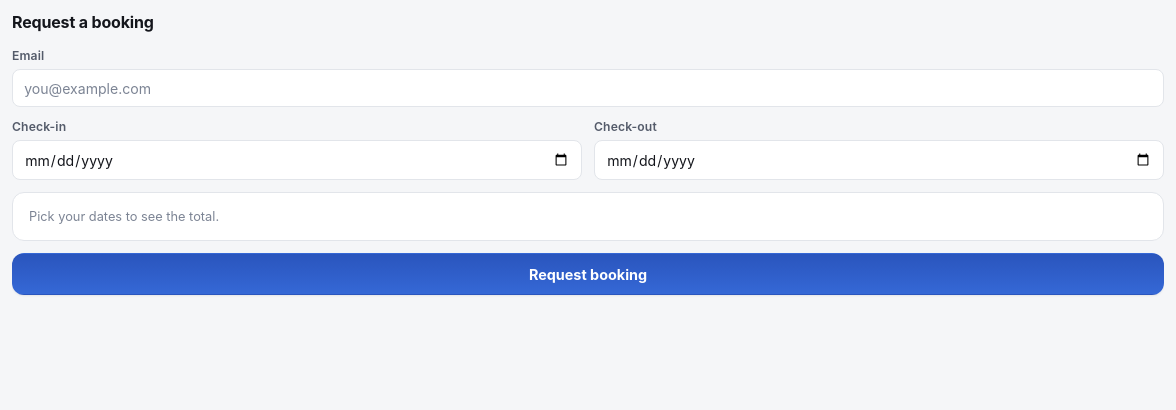
it: BookingPanel › shows an email error on submit when the email is invalid
Type "not-an-email" into the field labelled "Email" at (588, 88), box x1=12 y1=69 x2=1164 y2=107
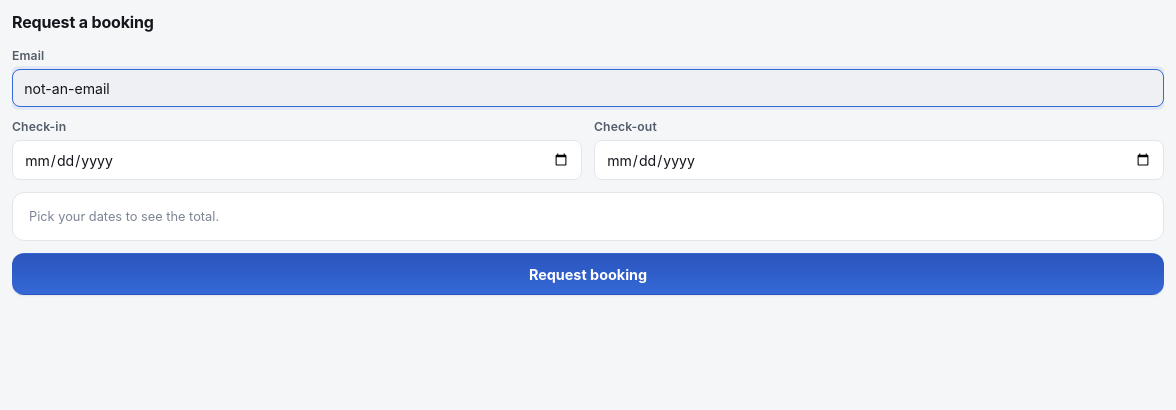
Type "2025-05-01" into the date field labelled "Check-in" at (297, 160), box x1=12 y1=140 x2=582 y2=180
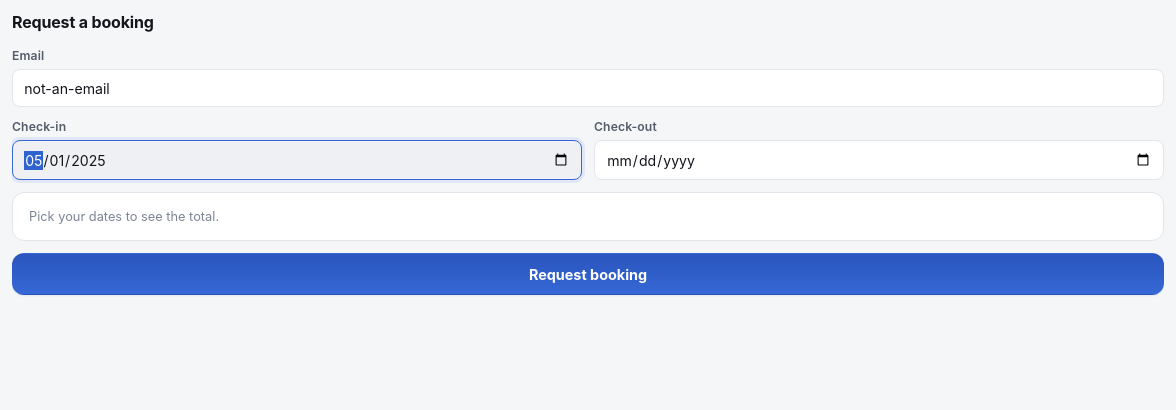
Type "2025-05-03" into the date field labelled "Check-out" at (879, 160), box x1=594 y1=140 x2=1164 y2=180
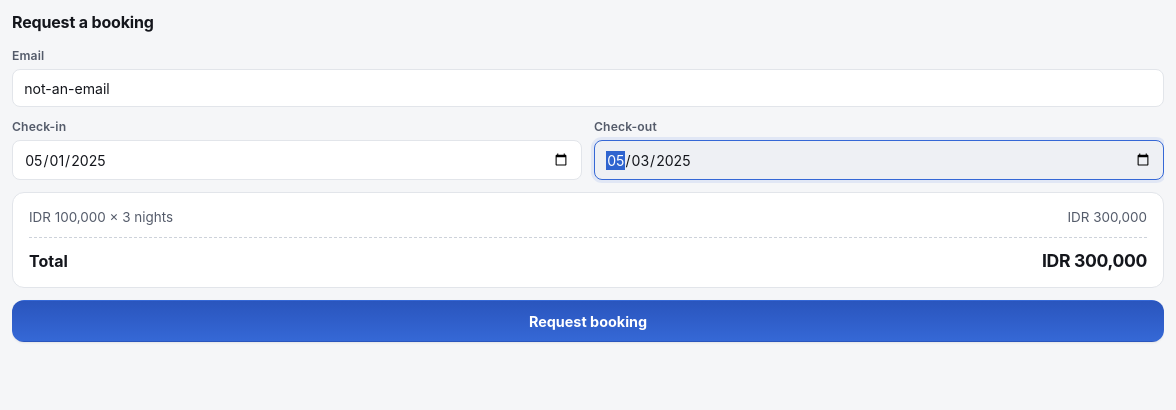
Click the button "Request booking" at (588, 321), box x1=12 y1=300 x2=1164 y2=342
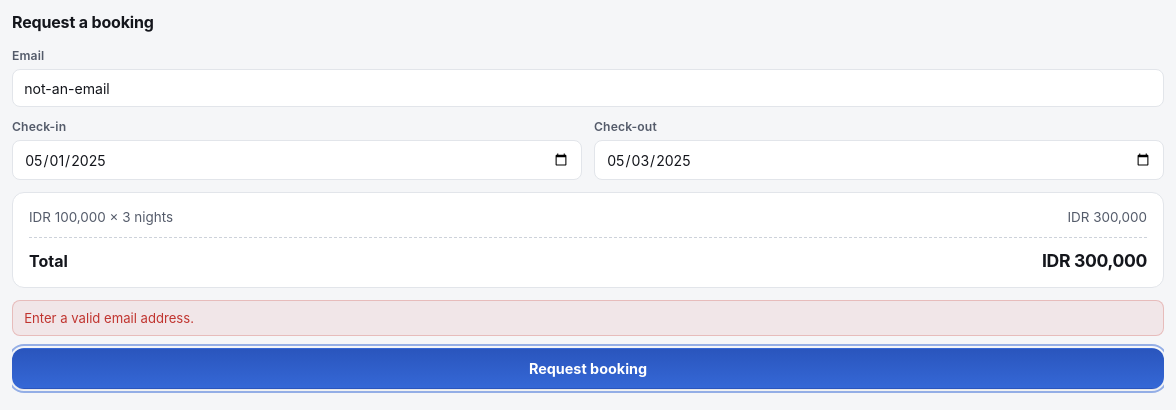
Check: the message shows "valid email", box x1=24 y1=310 x2=194 y2=326
